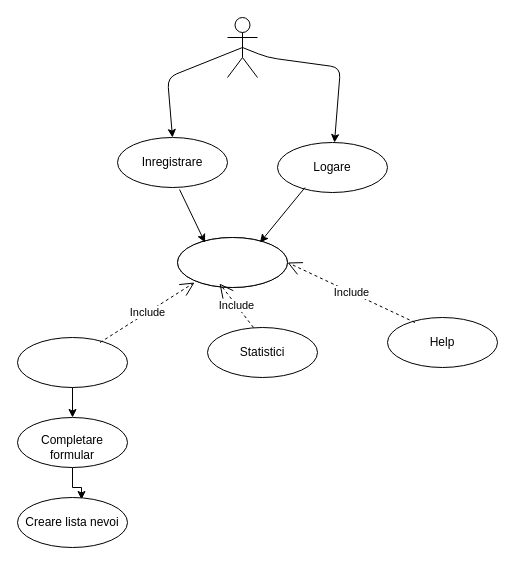
The diagram is 515 pixels wide and 565 high, and some of its shapes have lost their labels. Here are the shapes that lost their labels. From the top down, the centre of each, then its label:
pixel 242 47: Needer
pixel 232 262: Selectare actiune
pixel 72 362: Cerere ajutor
